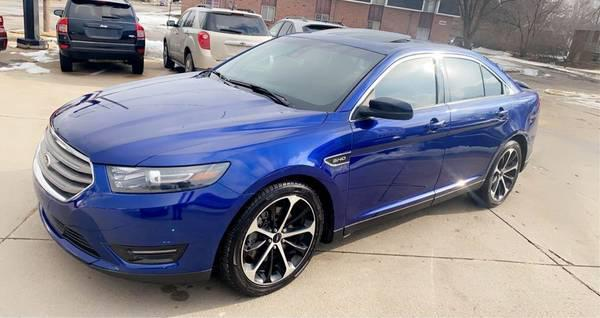Front_Bumper: (32, 165, 246, 281)
Front_Fender: (129, 108, 344, 239)
Front_Left_Door: (337, 101, 444, 227)
Front_Left_Window: (353, 50, 451, 116)
Front_Windshield: (214, 34, 386, 111)
Grille: (36, 121, 97, 203)
Hood: (51, 66, 326, 164)
Left_Headlight: (99, 161, 227, 192)
Rear_Fender: (503, 92, 537, 164)
Rear_Left_Door: (430, 95, 508, 199)
Rear_Left_Window: (445, 53, 512, 102)
Roof: (292, 31, 532, 113)
Wheel: (226, 179, 328, 294), (485, 140, 520, 200)
